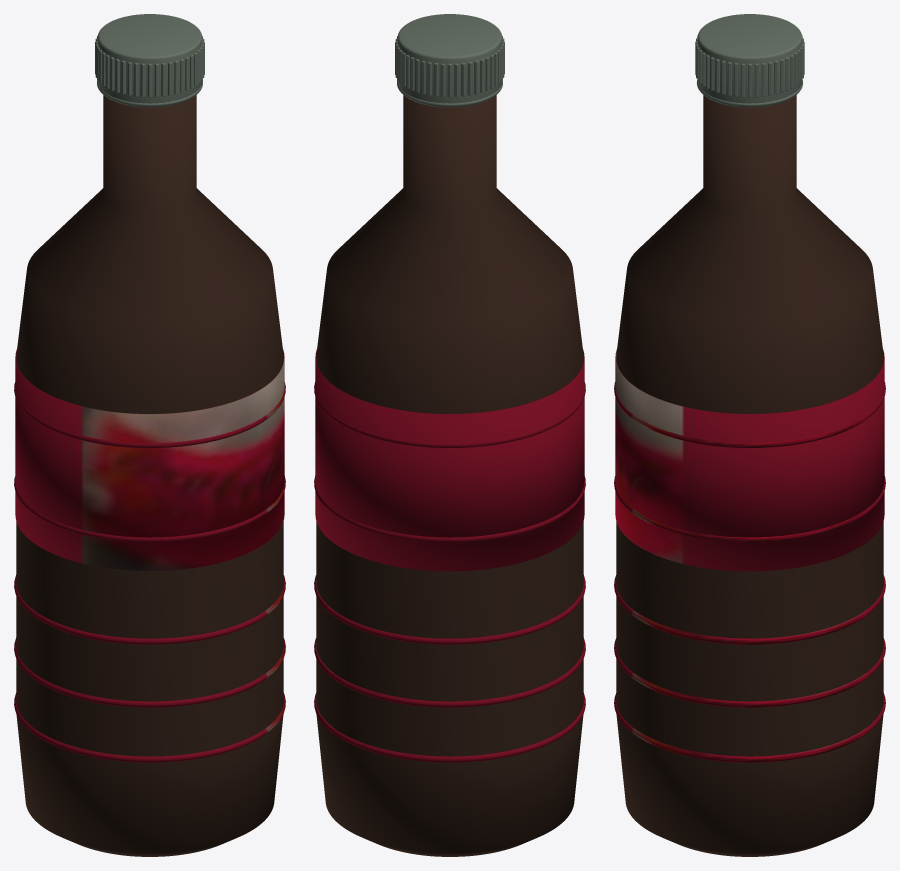
Rendered from fridge_contents__cola_pet_bottle.glb.
3 views of the same model, side by side, from view 1: azimuth 30°, elevation 25°; view 2: azimuth 150°, elevation 25°; view 3: azimuth 270°, elevation 25° (orthographic).
Visible parts, largest first — view 1: hollow container, photo paper label, removable closure, molded bottle rib, molded bottle rib.001, molded bottle rib.002, molded bottle rib.003, molded bottle rib.004; view 2: hollow container, photo paper label, removable closure, molded bottle rib, molded bottle rib.001, molded bottle rib.002, molded bottle rib.003, molded bottle rib.004; view 3: hollow container, photo paper label, removable closure, molded bottle rib, molded bottle rib.001, molded bottle rib.002, molded bottle rib.003, molded bottle rib.004.
Boxes of the visible parts, <box> form: hollow container: <box>16,95,283,856</box>; photo paper label: <box>15,349,284,571</box>; removable closure: <box>97,14,202,107</box>; molded bottle rib: <box>14,693,285,762</box>; molded bottle rib.001: <box>14,638,285,707</box>; molded bottle rib.002: <box>14,575,285,644</box>; molded bottle rib.003: <box>14,476,285,542</box>; molded bottle rib.004: <box>14,382,285,447</box>; hollow container: <box>316,95,583,856</box>; photo paper label: <box>315,349,584,571</box>; removable closure: <box>397,14,502,107</box>; molded bottle rib: <box>314,693,585,762</box>; molded bottle rib.001: <box>314,638,585,707</box>; molded bottle rib.002: <box>314,575,585,644</box>; molded bottle rib.003: <box>314,476,585,542</box>; molded bottle rib.004: <box>314,382,585,447</box>; hollow container: <box>616,95,883,856</box>; photo paper label: <box>615,349,884,571</box>; removable closure: <box>697,14,802,107</box>; molded bottle rib: <box>614,693,885,762</box>; molded bottle rib.001: <box>614,638,885,707</box>; molded bottle rib.002: <box>614,575,885,644</box>; molded bottle rib.003: <box>614,476,885,542</box>; molded bottle rib.004: <box>614,382,885,447</box>.
Bounding box in the file's own units: 0.0721 × 0.23 × 0.0721.
3 materials, 1 textured.
